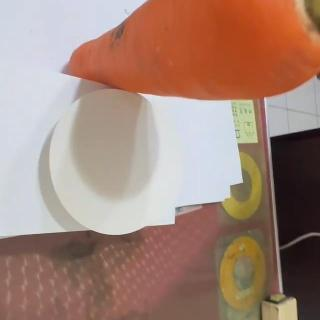carrot: (67, 0, 320, 101)
